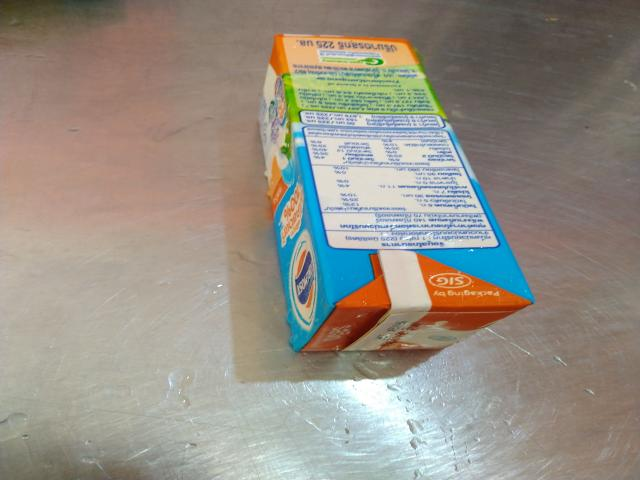drink_box: (209, 20, 556, 387)
